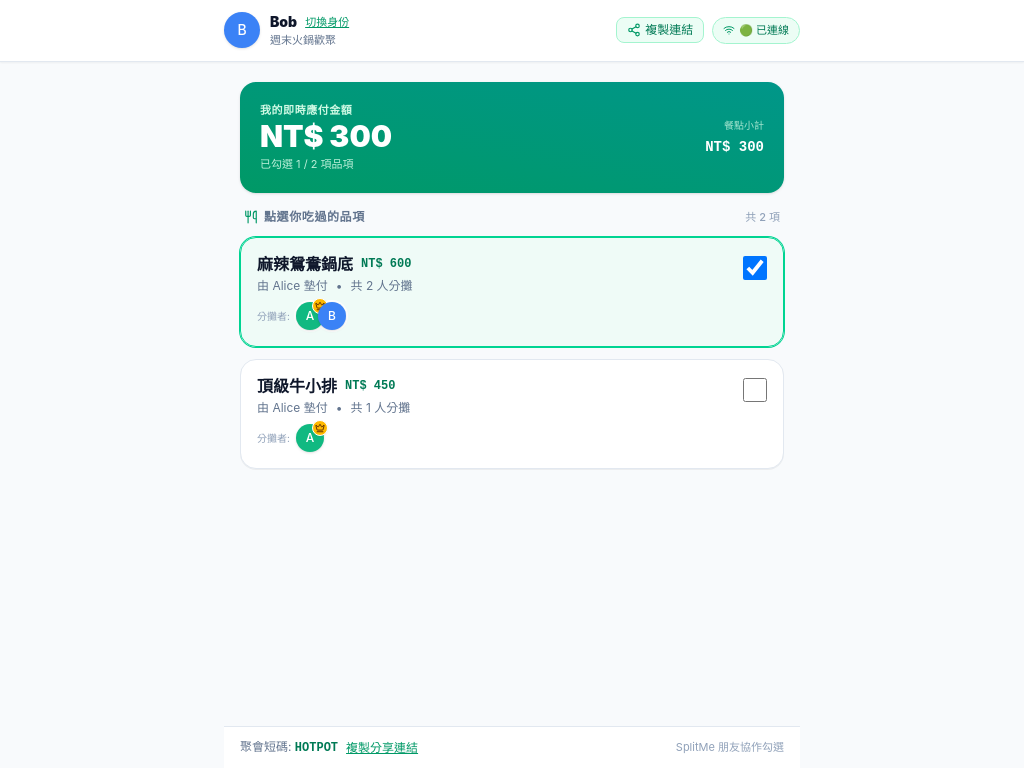
FriendCheckView Component › allows switching identity when clicking switch member button
Click the button "切換身份" at (327, 22), box [305, 14, 349, 30]
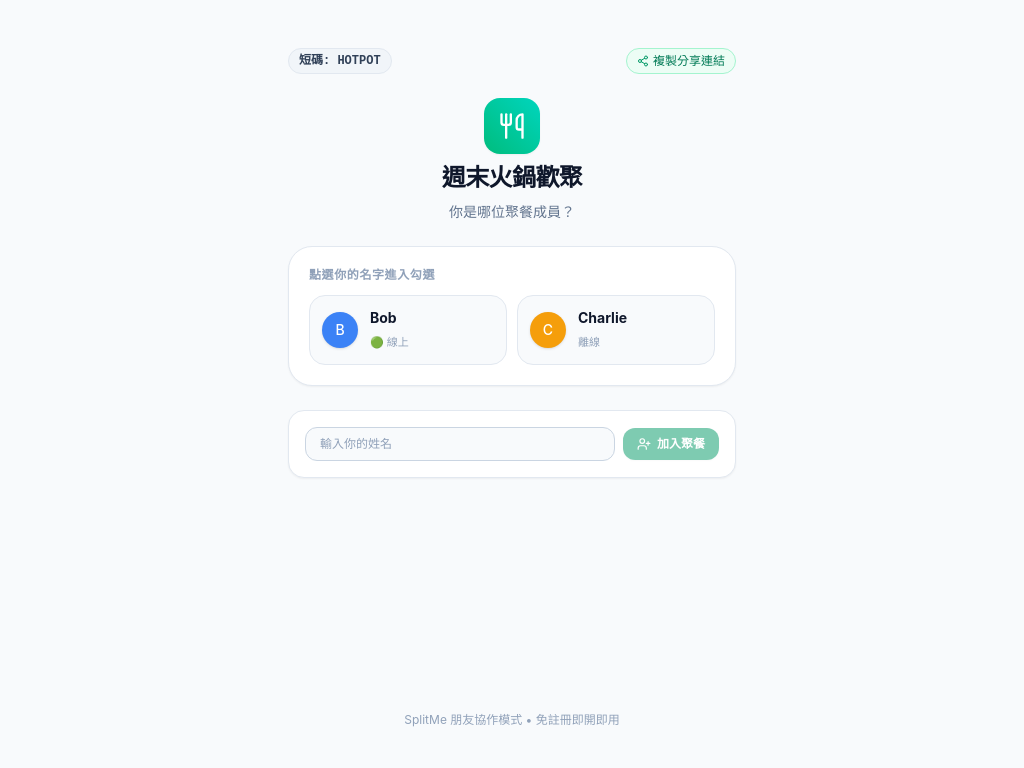
Expected: the text "你是哪位聚餐成員？" is shown, [449, 203, 575, 220]
